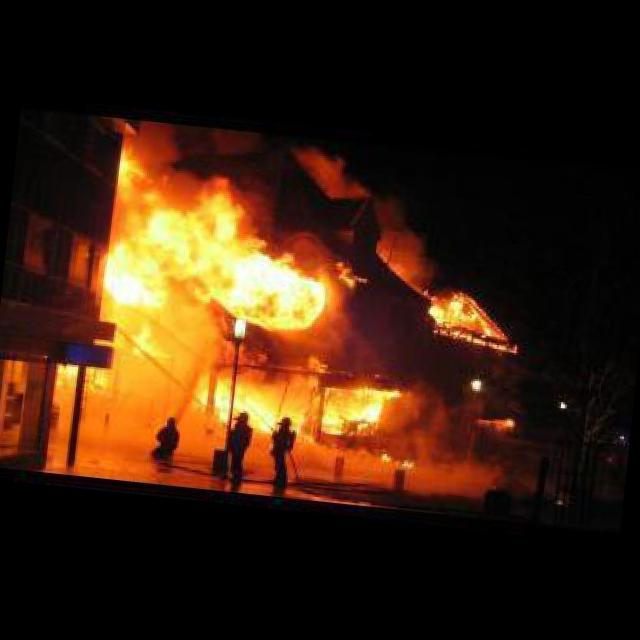Fire: (74, 154, 504, 461)
